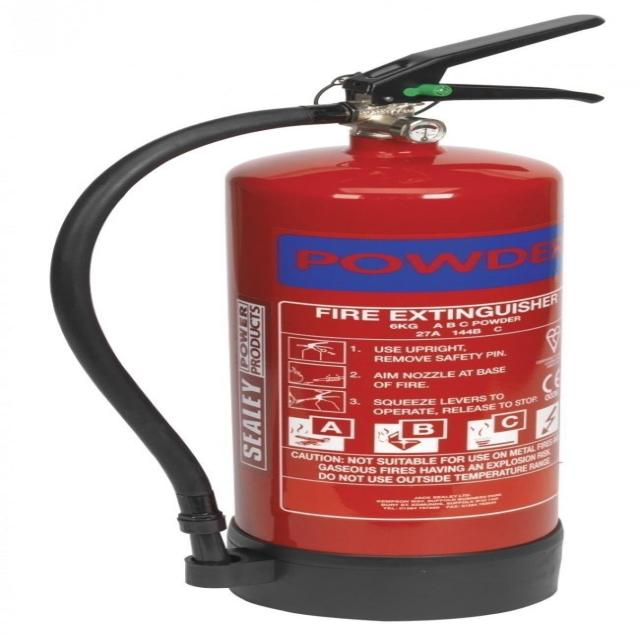fire_extinguisher: (40, 11, 612, 624)
